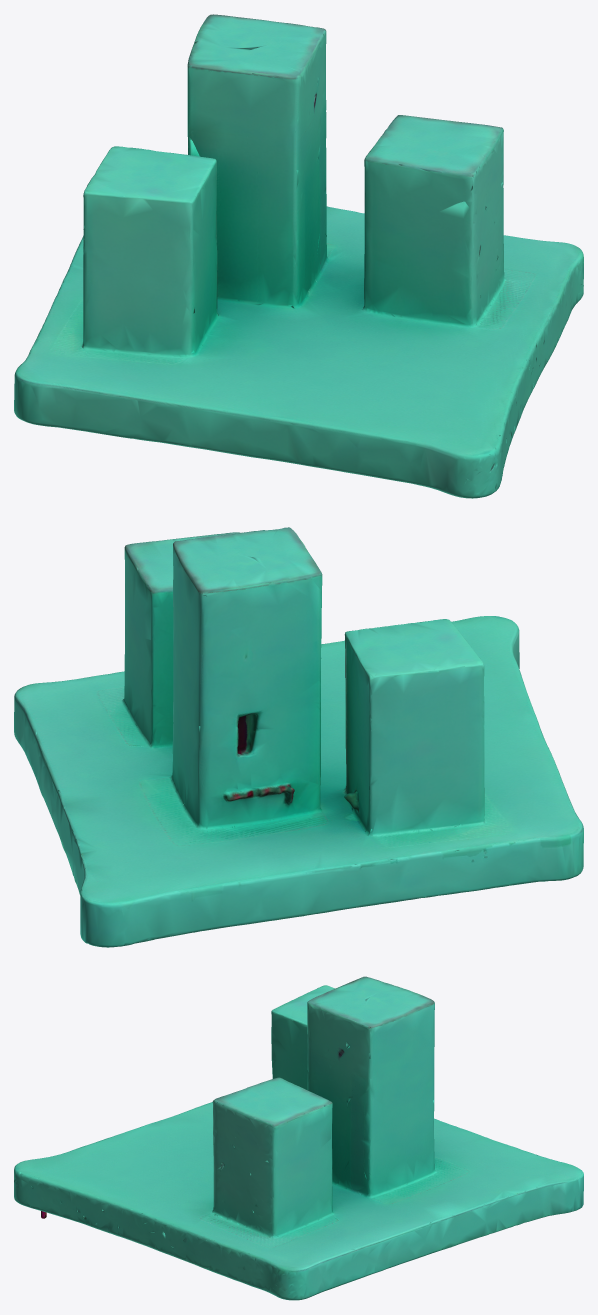
File: popularity.glb
3 renders of one model, top to bottom at view 1: azimuth 30°, elevation 25°; view 2: azimuth 150°, elevation 25°; view 3: azimuth 270°, elevation 25°, orthographic. The views are drawn at different scales.
Size of the model in its own units: 1.66 by 0.8435 by 2.
1 material, 1 textured.
